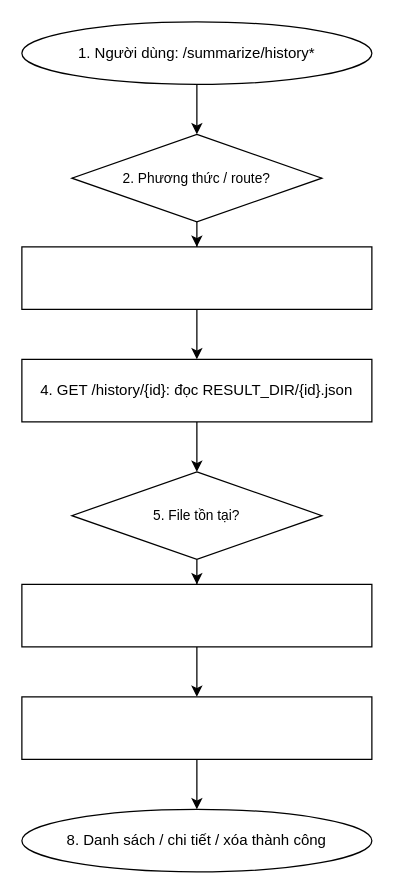
This 394x894 diagram has some shape labels left out. The shapes that lost their labels are listed below. From the top down, each one's centre as x and y in pixels, then its label:
the point at 196,277: 3. GET /history: list_recent_results → lọc type=compare
the point at 196,615: 6. DELETE /history/{id}: path.unlink()
the point at 196,727: 7. invalidate_dashboard_cache()
